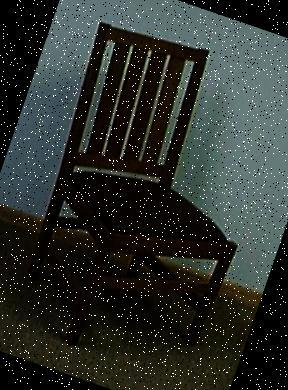Silla: (1, 17, 287, 388)
